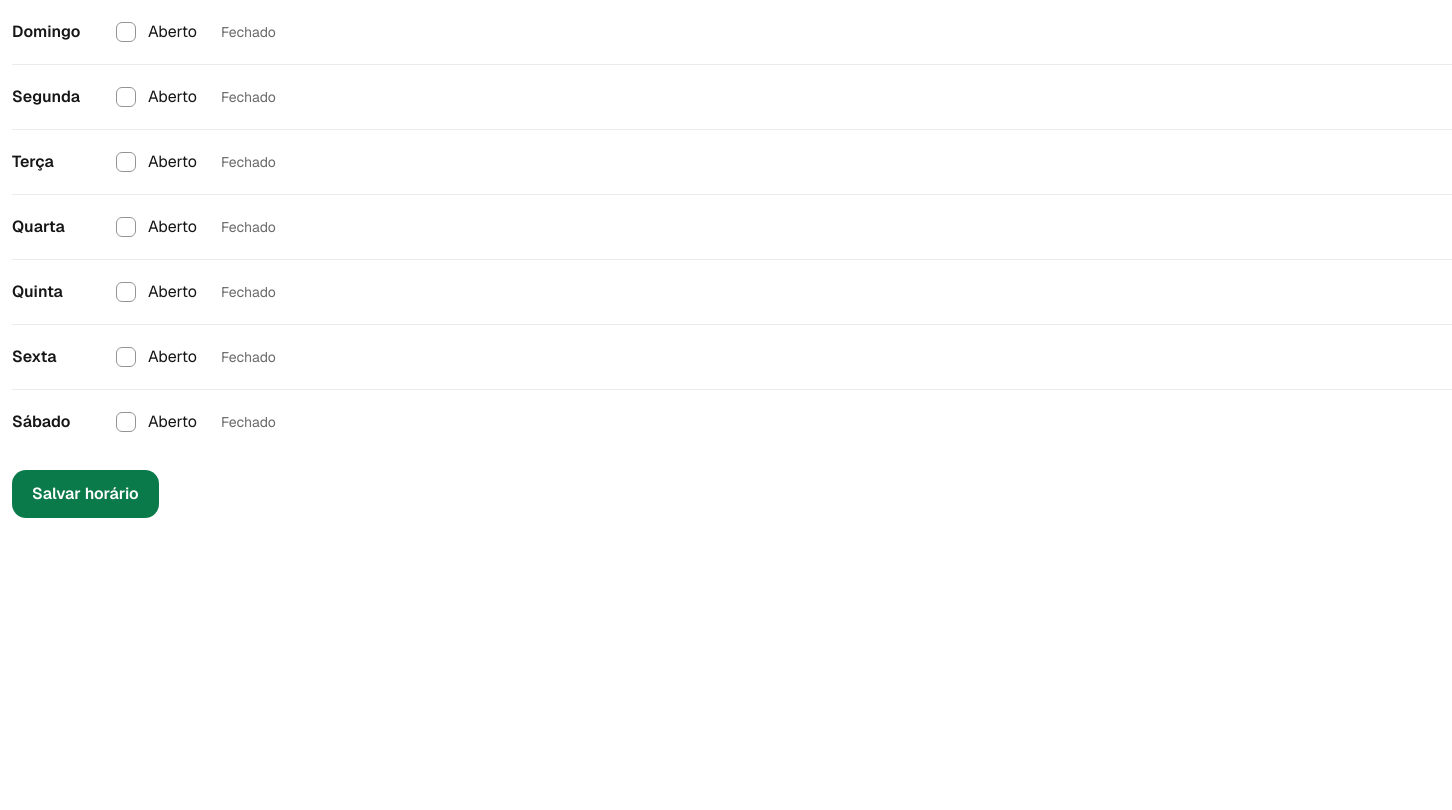
Test: HoursEditor › offers times every 30 minutes and hides them while the day is closed
Click the checkbox labelled "Aberto" next to "Sábado" at point(126, 422), box left=116, top=412, right=136, bottom=432
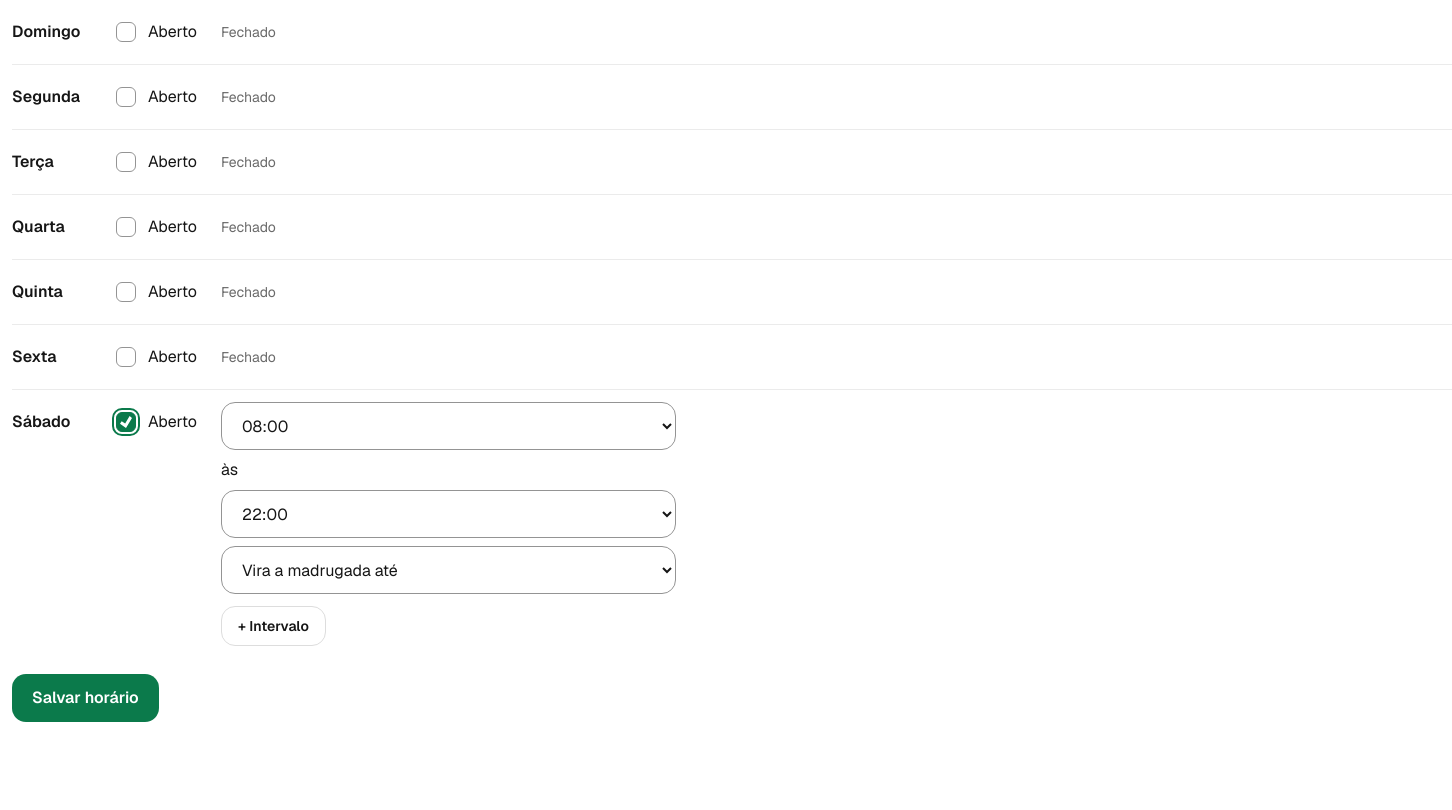
Now the dropdown named "Abertura" shows "08:00", box left=221, top=402, right=676, bottom=450
Now the dropdown named "Fechamento" shows "22:00", box left=221, top=490, right=676, bottom=538
